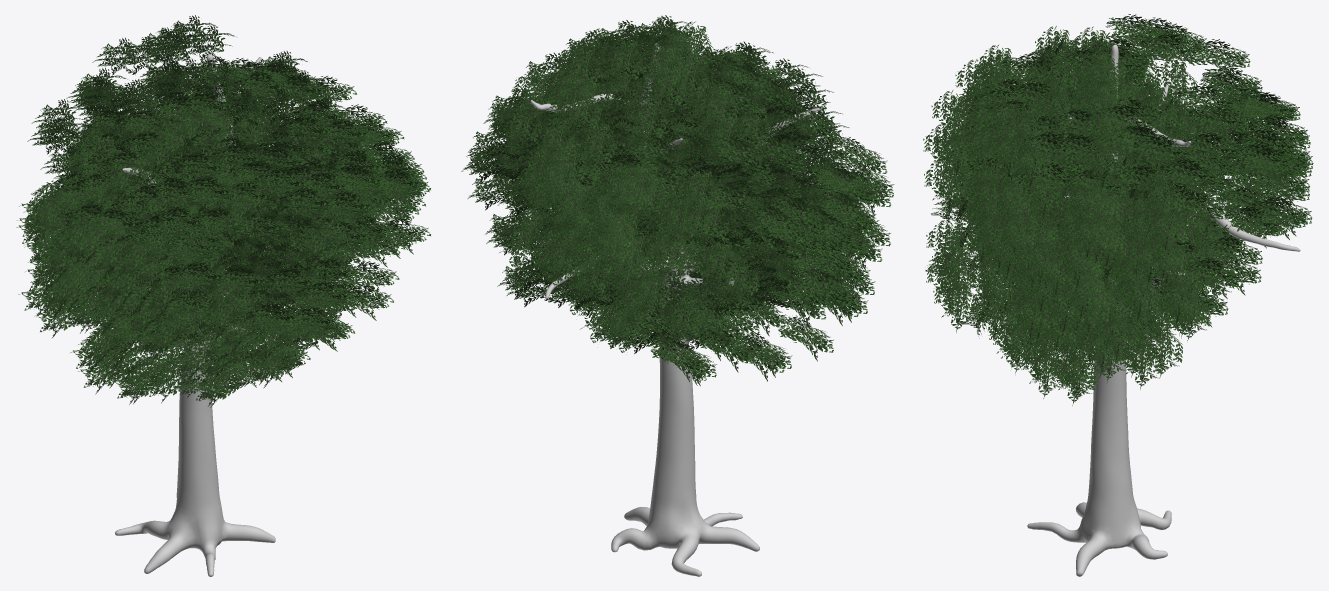
Rendered from Arbol11.fbx.
3 views of the same model, side by side, from view 1: azimuth 30°, elevation 25°; view 2: azimuth 150°, elevation 25°; view 3: azimuth 270°, elevation 25° (orthographic). The views are drawn at different scales.
Parts seen in each view (by area): view 1: Hojas, TuboTronco; view 2: Hojas, TuboTronco; view 3: Hojas, TuboTronco.
Boxes of the visible parts, left/top/right/bottom form: Hojas: left=16, top=15, right=430, bottom=407; TuboTronco: left=115, top=54, right=275, bottom=576; Hojas: left=461, top=15, right=894, bottom=386; TuboTronco: left=530, top=43, right=819, bottom=576; Hojas: left=923, top=14, right=1313, bottom=405; TuboTronco: left=970, top=44, right=1300, bottom=576.
Bounding box in the file's own units: 13.42 × 17.18 × 11.53.
